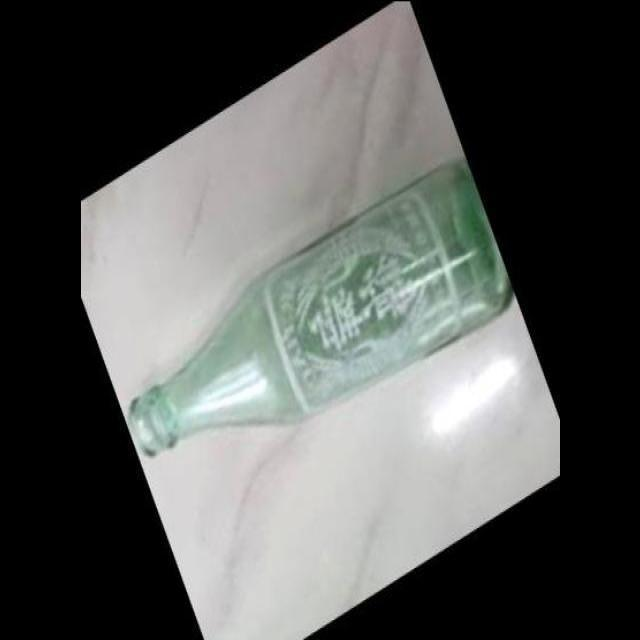Glass: (122, 144, 514, 468)
